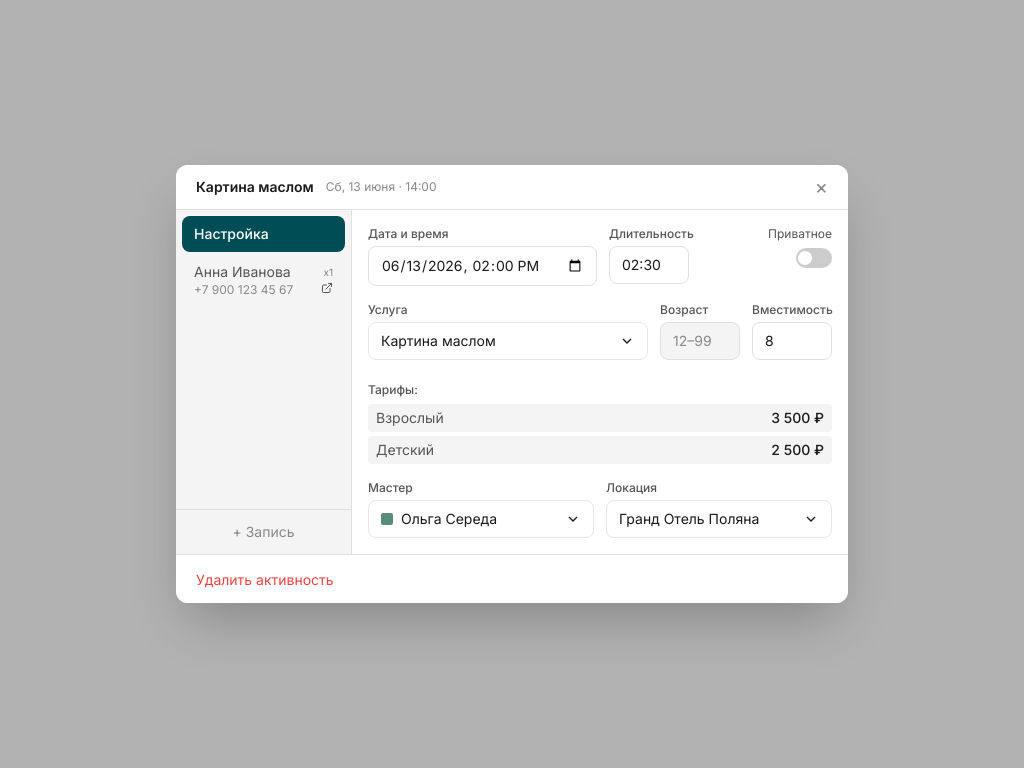
ActivityDetailsModal — API integration › passes actual visitors to ClientTab (not empty array)
Note: Click on the client tab to show ClientTab
Click the text "Анна Иванова" at (244, 272), box x1=194 y1=262 x2=293 y2=282
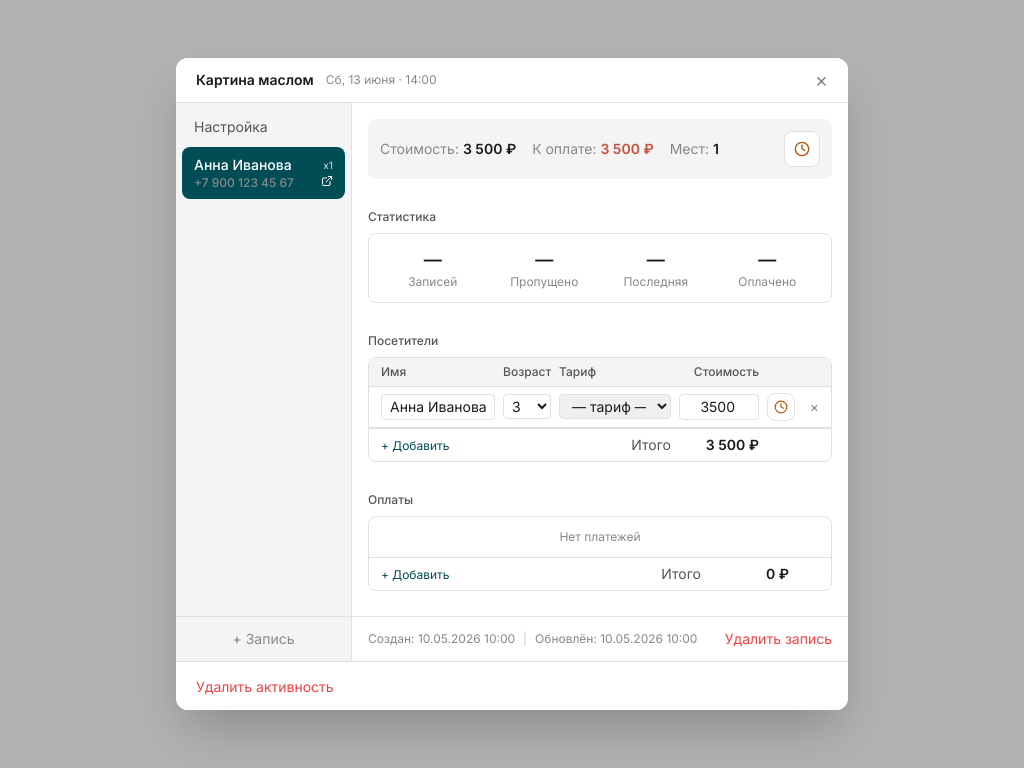
Check: the element with test id "client-tab" is shown, box x1=352 y1=103 x2=848 y2=661
